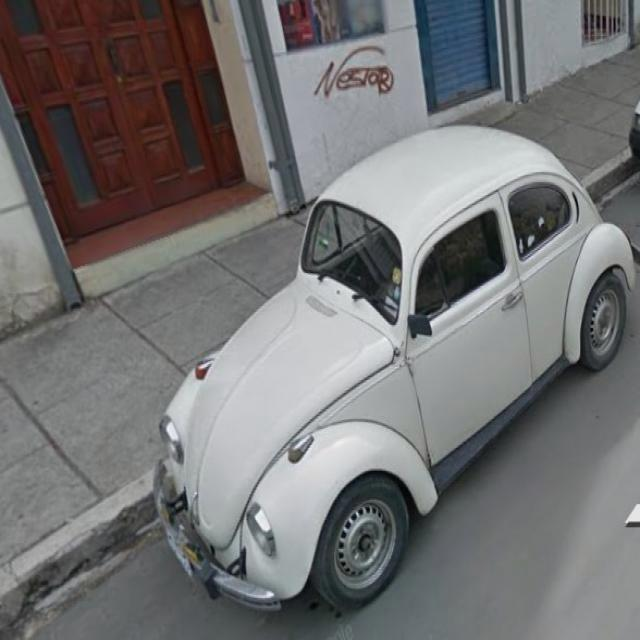Car: (163, 117, 638, 615)
